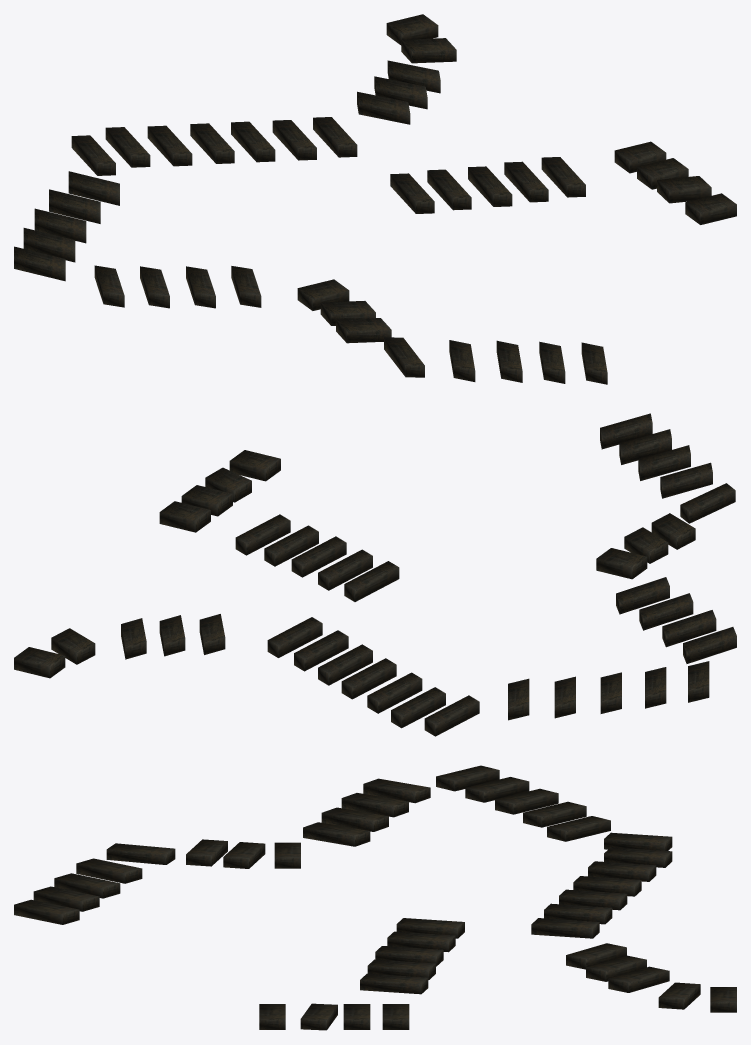
The model's file is Tile02.obj.
3 views of the same model, one above another, from view 1: azimuth 30°, elevation 25°; view 2: azimuth 150°, elevation 25°; view 3: azimuth 270°, elevation 25° (orthographic). The views are drawn at different scales.
Visible parts, largest first — view 1: Box003; view 2: Box003; view 3: Box003.
Boxes of the visible parts, box(x1,y1,x2,y2) form: Box003: box(14, 14, 736, 384); Box003: box(14, 413, 736, 736); Box003: box(14, 765, 736, 1030).
Size of the model in its own units: 413 by 7.87 by 496.
1 material, 1 textured.
